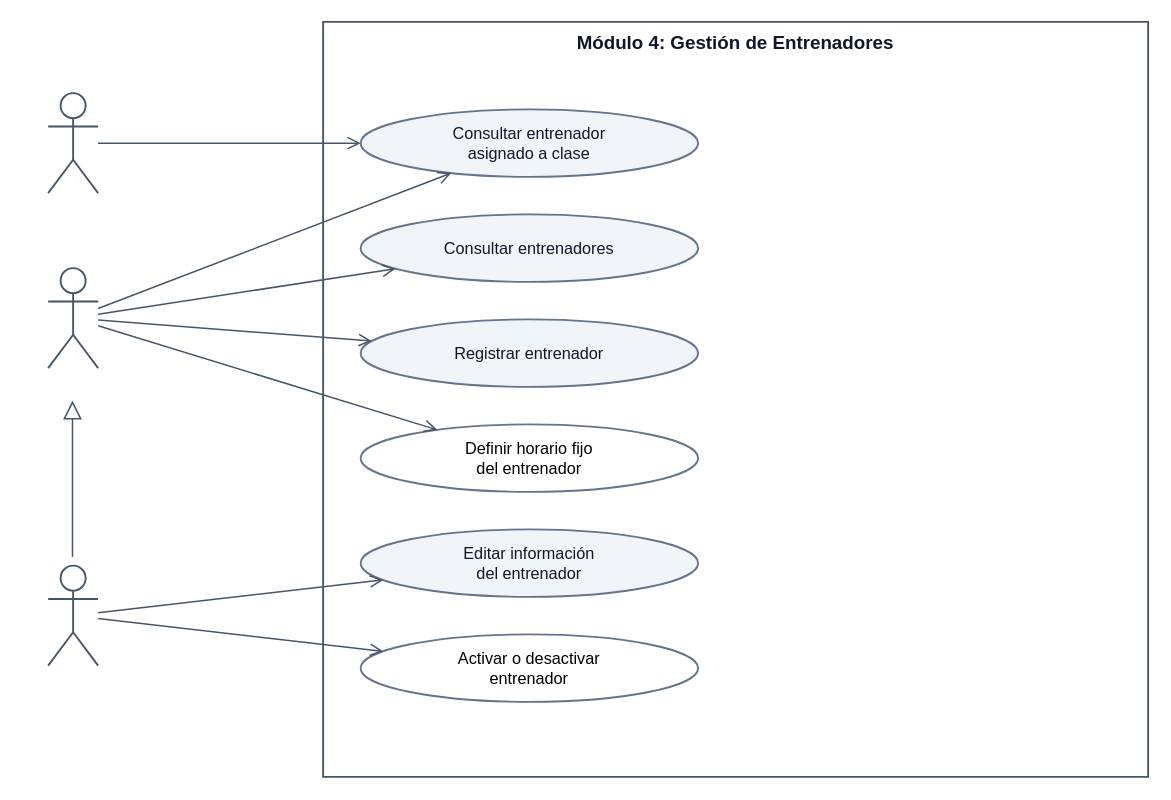
This 1171x800 diagram has some shape labels left out. Here are the shapes that lost their labels. From the top down, the centre of each, then its label:
pixel 72 143: Cliente
pixel 72 317: Recepcionista
pixel 72 615: Administrador
